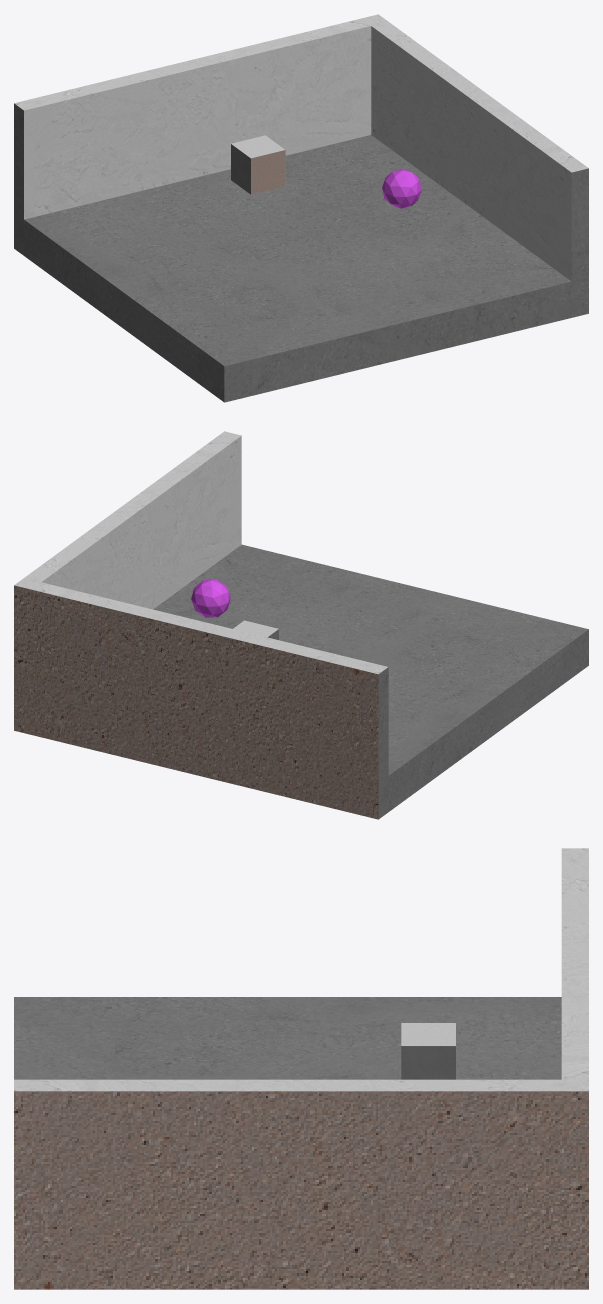
Rendered from Room1.glb.
3 renders of one model, top to bottom at view 1: azimuth 30°, elevation 25°; view 2: azimuth 150°, elevation 25°; view 3: azimuth 270°, elevation 25°, orthographic. The views are drawn at different scales.
Visible parts, largest first — view 1: Room_Room1, Item_SampleCube, Item_SampleIcosphere; view 2: Room_Room1, Item_SampleIcosphere; view 3: Room_Room1, Item_SampleCube.
Boxes of the visible parts, <box> form: Room_Room1: <box>14,14,588,402</box>; Item_SampleCube: <box>231,135,285,194</box>; Item_SampleIcosphere: <box>382,169,421,208</box>; Room_Room1: <box>14,431,588,819</box>; Item_SampleIcosphere: <box>191,579,230,617</box>; Room_Room1: <box>14,848,588,1289</box>; Item_SampleCube: <box>401,1023,455,1079</box>.
Size of the model in its own units: 10.5 by 4 by 10.5.
Materials: 3 (2 with a texture image).
